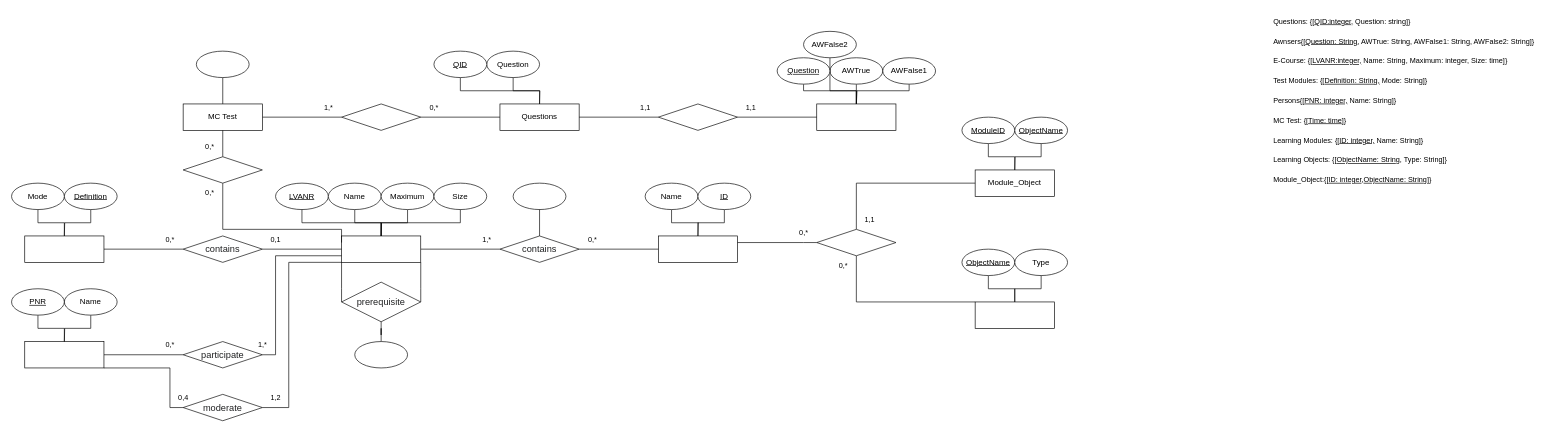
Some shapes in this 1561 by 432 pixel diagram are drawn without their labels. The centre of each missing label's shape, as x and y in pixels:
"Answers" goes at point (856, 116).
"assigned" goes at point (222, 169).
"consists of" goes at point (381, 116).
"E-Course" goes at point (381, 248).
"includes" goes at point (698, 116).
"inherits" goes at point (856, 242).
"Learning Modules" goes at point (698, 248).
"Learning Objects" goes at point (1014, 314).
"Noted" goes at point (381, 354).
"Order" goes at point (539, 196).
"Persons" goes at point (64, 354).
"Test Modules" goes at point (64, 248).
"Time" goes at point (222, 64).
